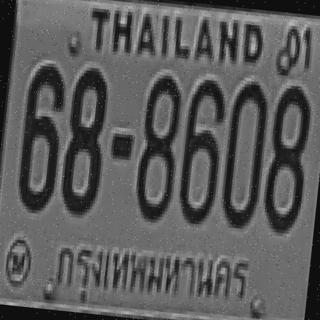N00: (219, 80, 269, 226)
N06: (14, 61, 66, 212), (175, 76, 227, 224)
N08: (132, 70, 182, 221), (58, 66, 108, 213), (261, 84, 311, 231)
P04: (46, 230, 256, 320)
